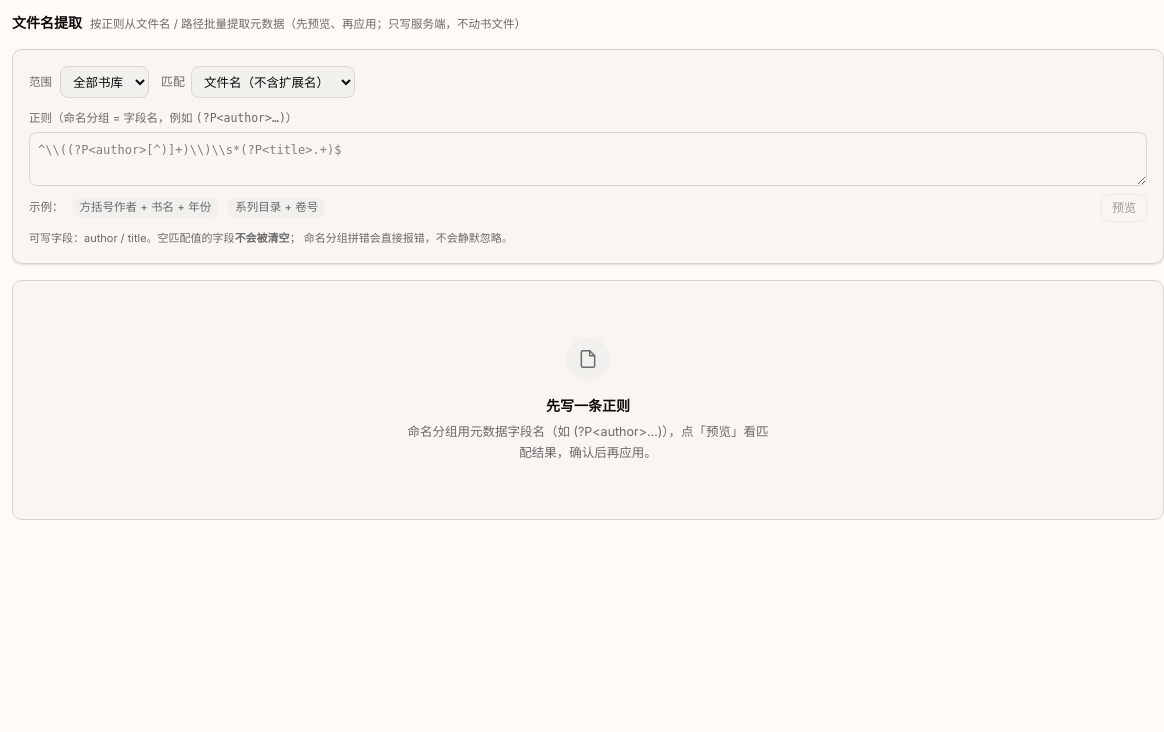
PathImportView › 预览：把正则与范围发给后端并渲染计数
Type "^(?P<author>.+)$" into the text box named "提取正则" at (588, 158), box [29,132,1147,186]
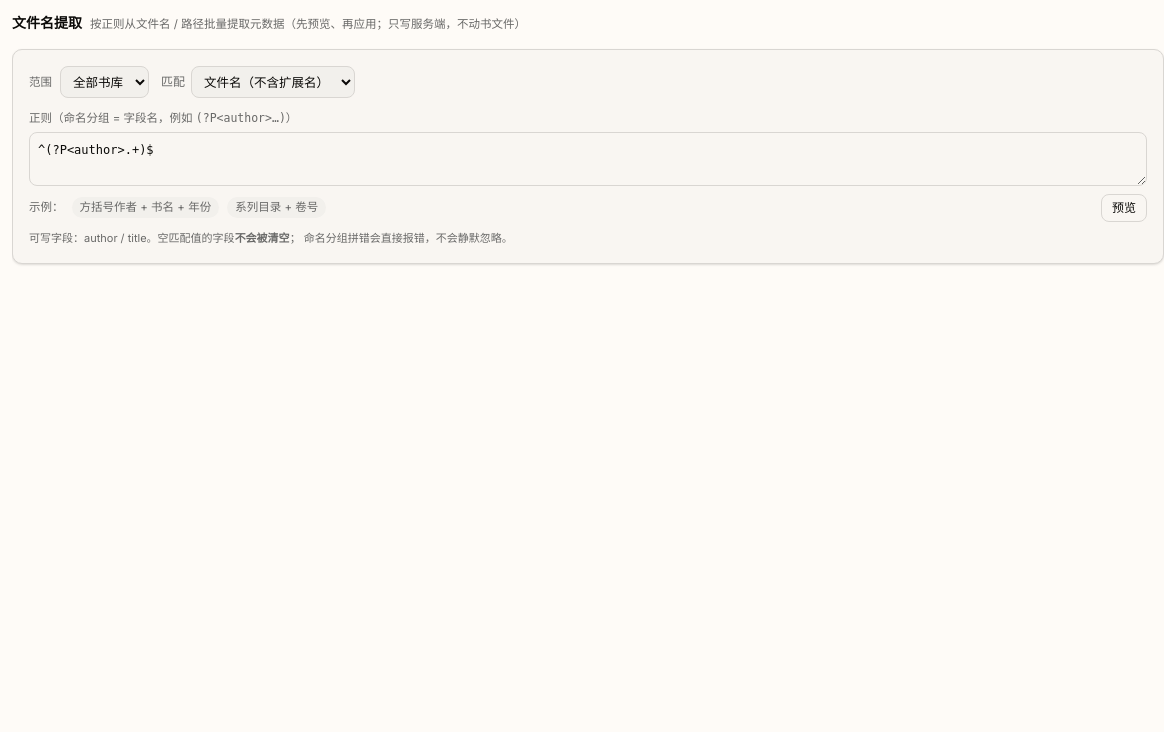
Click the button "预览" at (1124, 208), box [1101,194,1147,222]
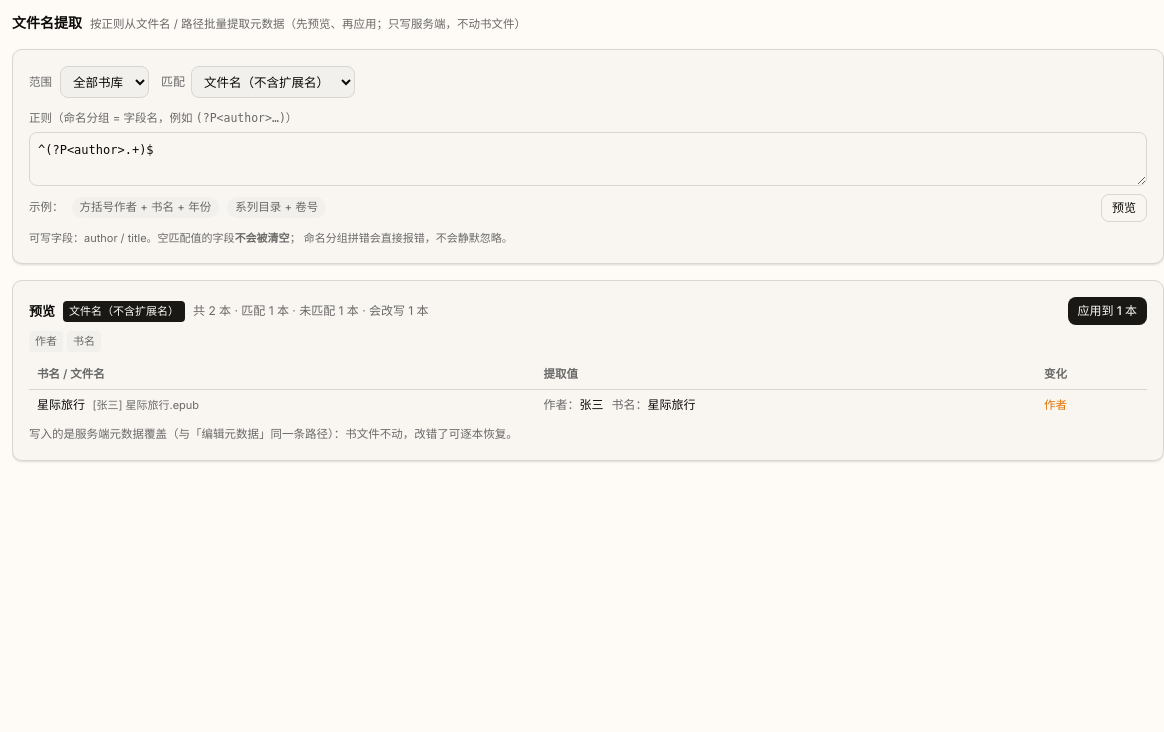
Expected: the text "作者" is shown, [72,197,219,218]
Now the text "匹配 1 本" is shown, box [193,303,429,318]
Now the text "会改写 1 本" is shown, box [193,303,429,318]
